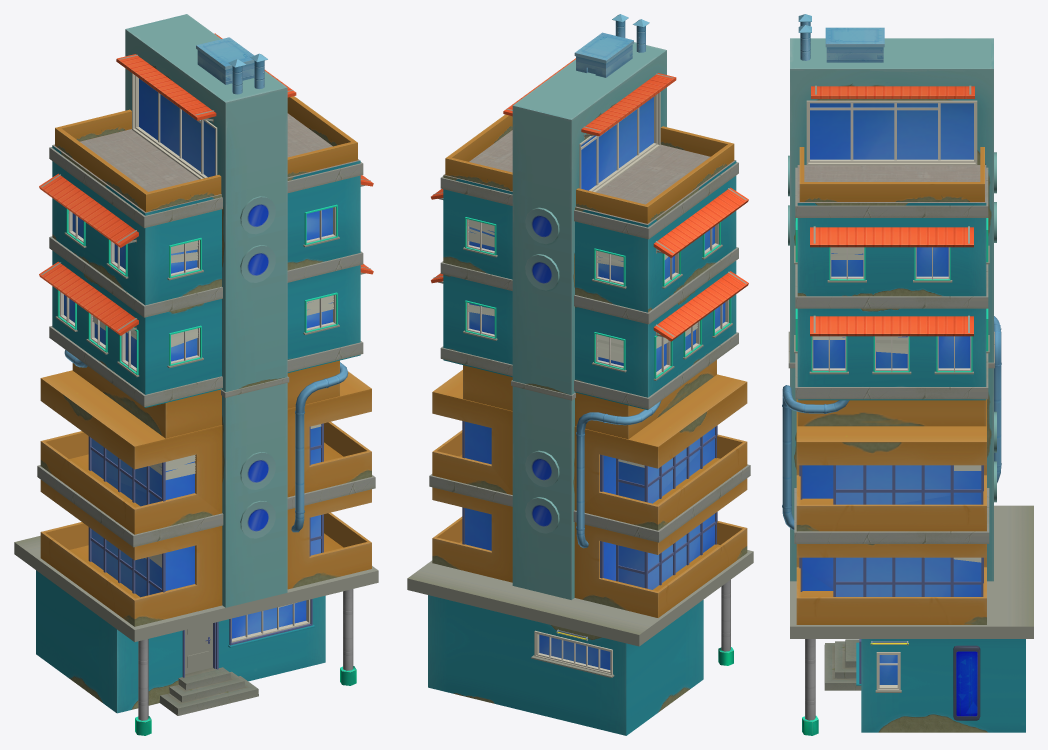
Rendered from Building_06_1_LOD1.fbx.
3 views of the same model, side by side, from view 1: azimuth 30°, elevation 25°; view 2: azimuth 150°, elevation 25°; view 3: azimuth 270°, elevation 25° (orthographic). The views are drawn at different scales.
Parts seen in each view (by area): view 1: polySurface4218; view 2: polySurface4218; view 3: polySurface4218.
Boxes of the visible parts, left/top/right/bottom form: polySurface4218: left=14, top=14, right=378, bottom=735; polySurface4218: left=407, top=14, right=753, bottom=735; polySurface4218: left=782, top=14, right=1033, bottom=735.
Size of the model in its own units: 980 by 2405 by 829.
